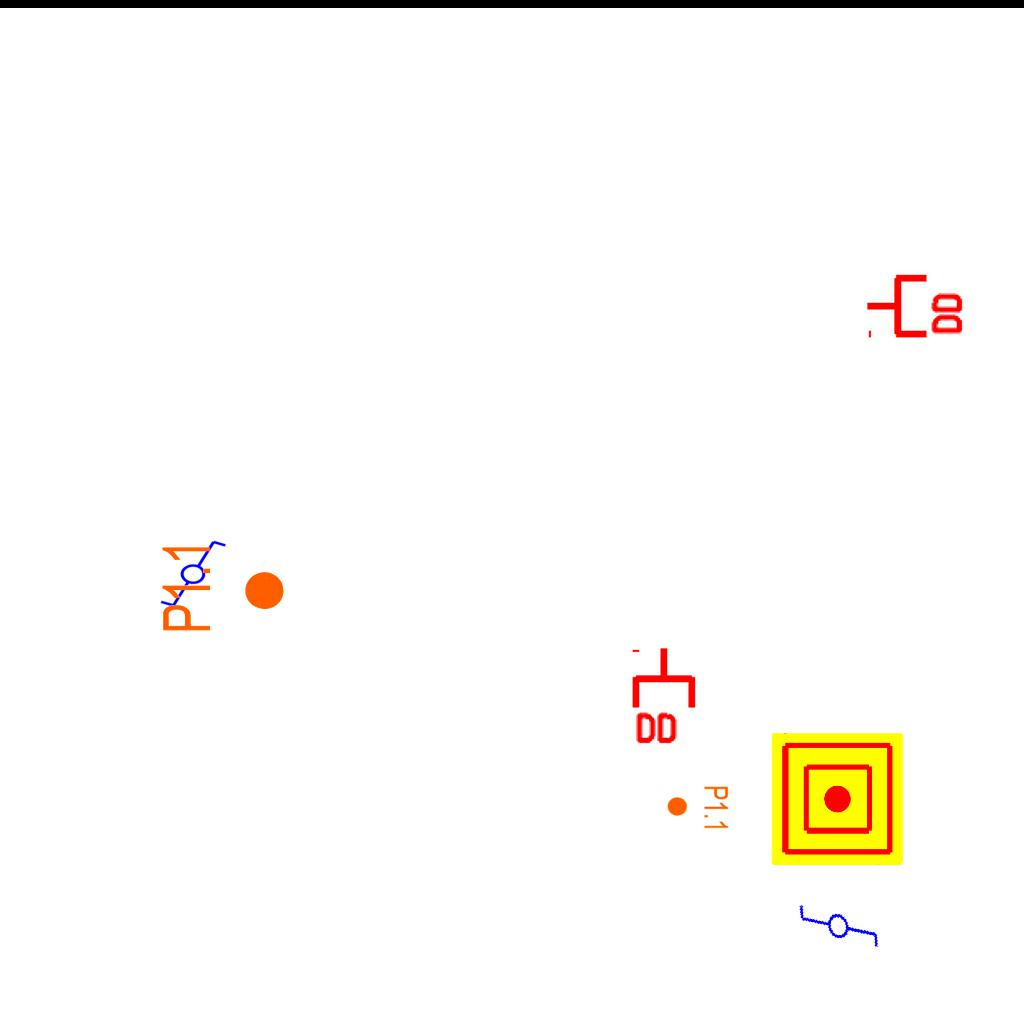Datenanschluss_zweifach: (864, 270, 967, 339), (631, 645, 700, 748)
Downlight_LED_Einbauleuchten_Flur: (159, 541, 287, 634), (666, 785, 730, 831)
NAM-Nichtautomatischer_Melder: (771, 733, 903, 865)
Wechselschalter: (790, 873, 886, 971), (150, 537, 228, 609)
